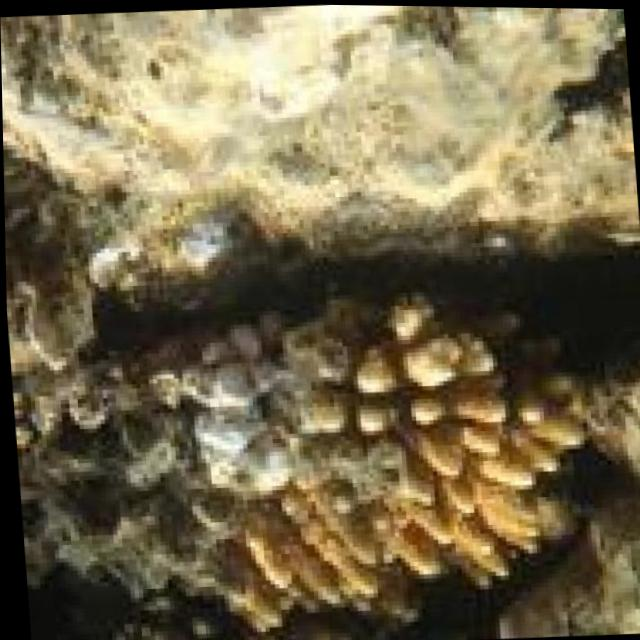Bleached Coral: (139, 309, 287, 498)
Healthy Coral: (254, 300, 594, 620)
